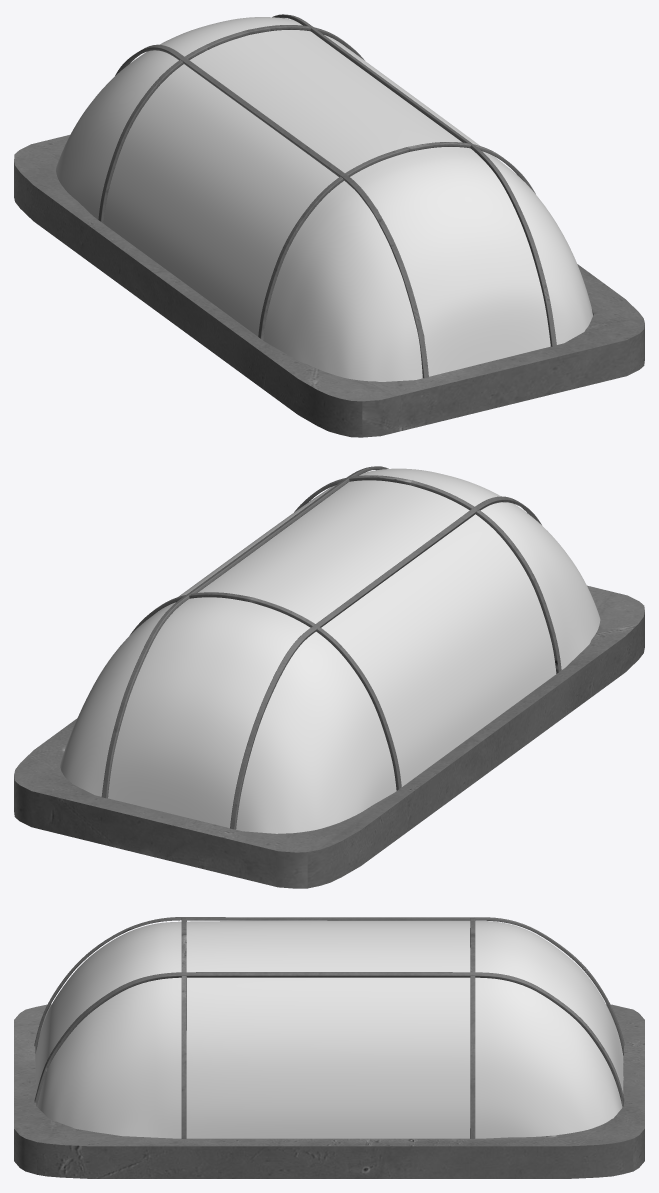
The model's file is Light.fbx.
The picture shows the model from 3 angles, top to bottom: view 1: azimuth 30°, elevation 25°; view 2: azimuth 150°, elevation 25°; view 3: azimuth 270°, elevation 25°; orthographic projection. The views are drawn at different scales.
Visible parts, largest first — view 1: Sphere.003, Cube, Sphere.001; view 2: Sphere.003, Cube, Sphere.001; view 3: Sphere.003, Cube, Sphere.001.
Part boxes in pixels (box(x1,y1,x2,y2)): Sphere.003: box(56, 17, 592, 381); Cube: box(14, 135, 644, 437); Sphere.001: box(98, 14, 556, 378); Sphere.003: box(60, 468, 600, 833); Cube: box(14, 585, 644, 888); Sphere.001: box(101, 466, 561, 829); Sphere.003: box(35, 920, 623, 1138); Cube: box(14, 1004, 644, 1178); Sphere.001: box(34, 917, 624, 1138).
Size of the model in its own units: 40.45 by 22.43 by 74.82.
